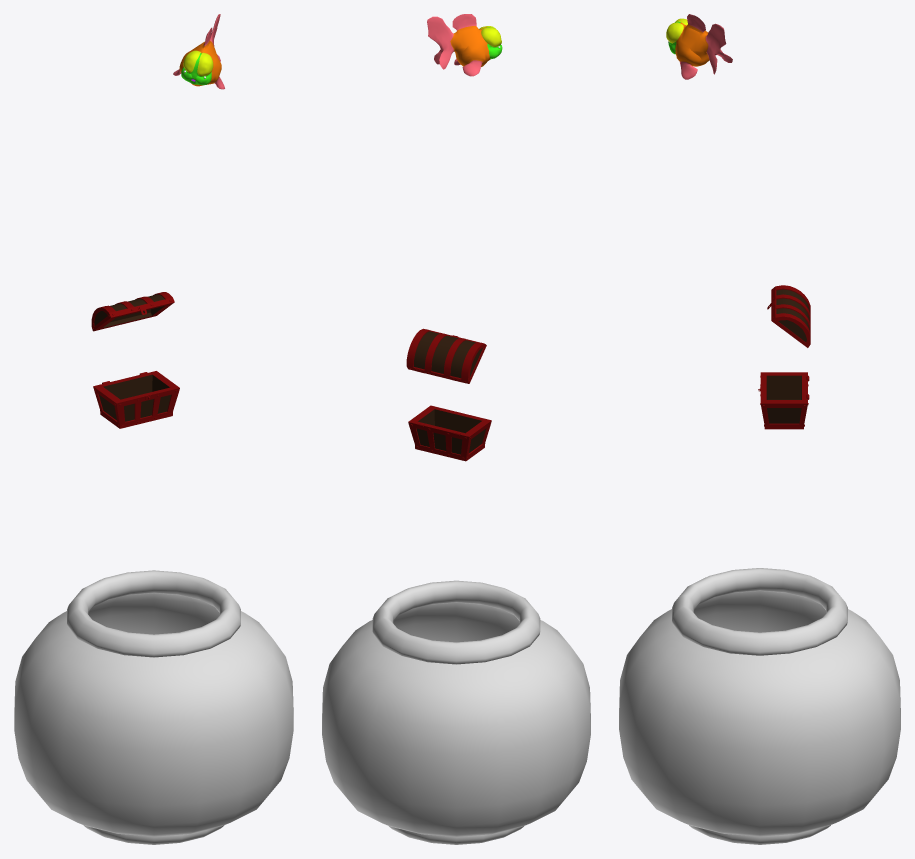
File: allFinal.obj
3 renders of one model, left to right at view 1: azimuth 30°, elevation 25°; view 2: azimuth 150°, elevation 25°; view 3: azimuth 270°, elevation 25°, orthographic. The views are drawn at different scales.
Visible parts, largest first — view 1: FishBowl, chestBottom, cubeChestTop, GoldFish; view 2: FishBowl, chestBottom, cubeChestTop, GoldFish; view 3: FishBowl, chestBottom, GoldFish, cubeChestTop.
Part boxes in pixels (x1,y1,x2,y2): FishBowl: [14, 570, 293, 844]; chestBottom: [93, 371, 179, 428]; cubeChestTop: [91, 292, 174, 331]; GoldFish: [173, 14, 224, 89]; FishBowl: [322, 580, 590, 844]; chestBottom: [408, 405, 491, 461]; cubeChestTop: [406, 328, 486, 383]; GoldFish: [427, 14, 502, 76]; FishBowl: [619, 568, 900, 844]; chestBottom: [758, 372, 809, 429]; GoldFish: [666, 14, 732, 79]; cubeChestTop: [767, 285, 810, 347].
Size of the model in its own units: 19.55 by 61.1 by 19.19.
